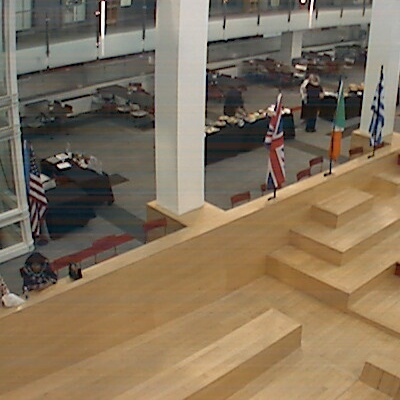head: (24, 252, 50, 273), (307, 72, 323, 84), (236, 82, 249, 94)
